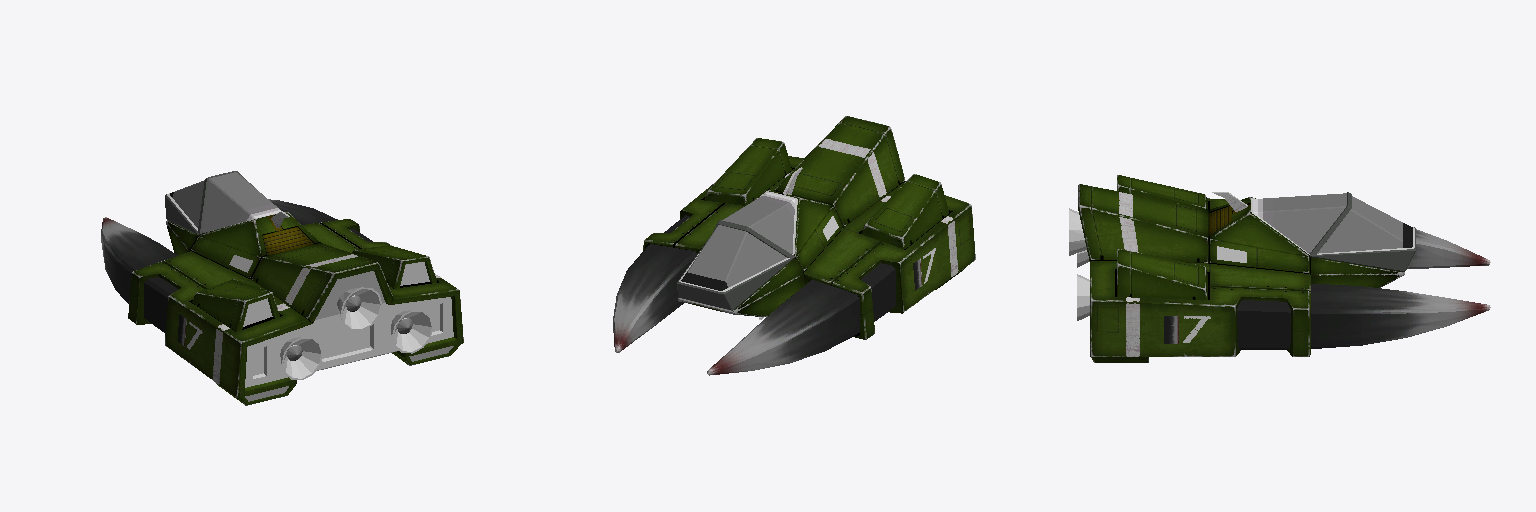
The picture shows the model from 3 angles: view 1: azimuth 30°, elevation 25°; view 2: azimuth 150°, elevation 25°; view 3: azimuth 270°, elevation 25°; orthographic projection.
Parts seen in each view (by area): view 1: 15_bigfang_a; view 2: 15_bigfang_a; view 3: 15_bigfang_a.
Part boxes in pixels (x1,y1,x2,y2): 15_bigfang_a: (101, 171, 463, 405); 15_bigfang_a: (613, 116, 975, 375); 15_bigfang_a: (1069, 175, 1490, 362).
Bounding box in the file's own units: 2.53 × 1.35 × 4.07.
21 materials, 6 textured.